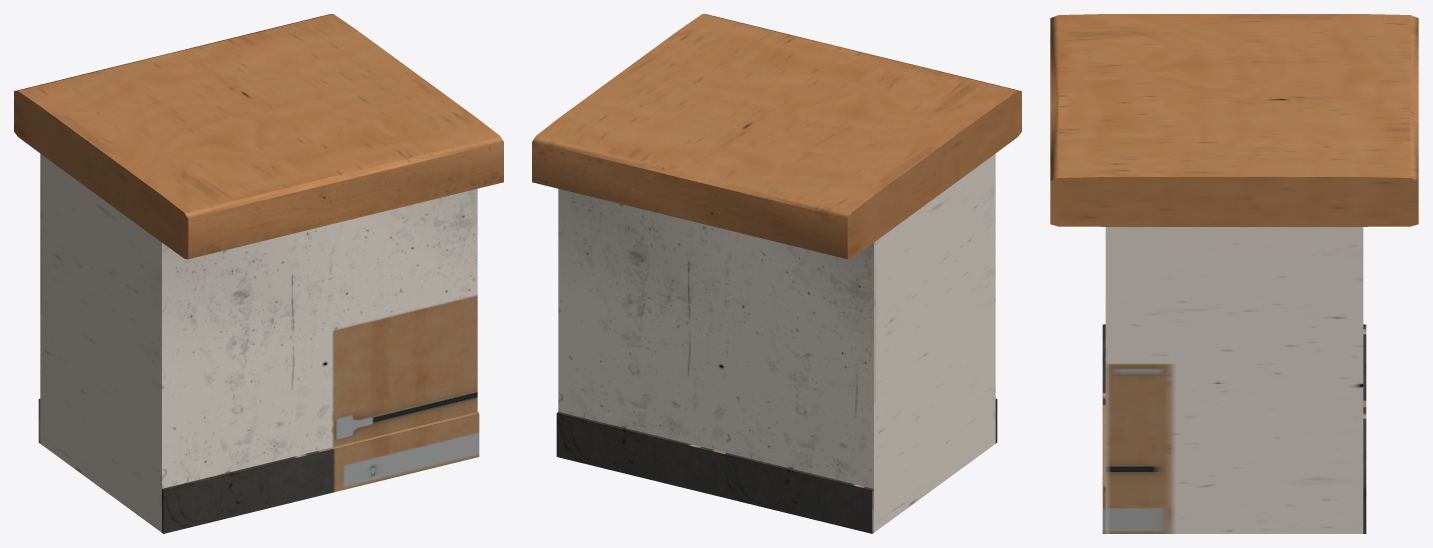
The model's file is Wall_Pony_1m_PILLAR_v002.fbx.
3 renders of one model, left to right at view 1: azimuth 30°, elevation 25°; view 2: azimuth 150°, elevation 25°; view 3: azimuth 270°, elevation 25°, orthographic. The views are drawn at different scales.
Parts seen in each view (by area): view 1: Pillar, Door; view 2: Pillar; view 3: Pillar, Door.
Part boxes in pixels (bbox=[...]): Pillar: bbox=[14, 14, 503, 533]; Door: bbox=[331, 292, 479, 492]; Pillar: bbox=[532, 14, 1021, 533]; Pillar: bbox=[1050, 14, 1418, 533]; Door: bbox=[1102, 361, 1174, 533].
Size of the model in its own units: 100 by 102 by 95.53.
1 material, 1 textured.
